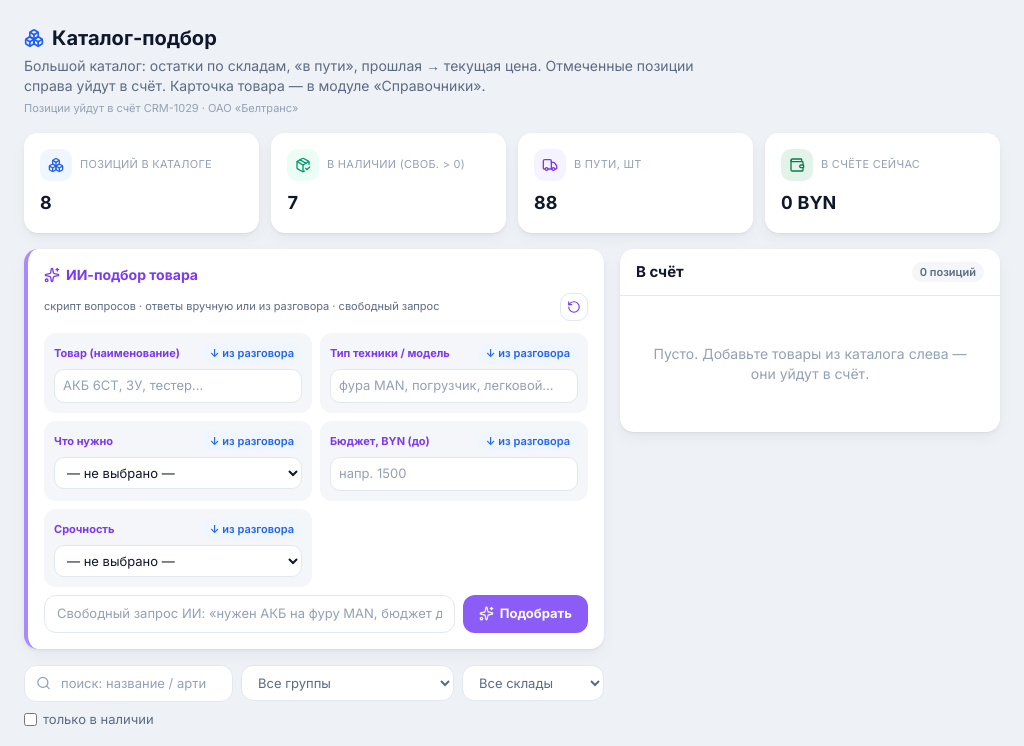
Scenario: CatalogPicker › контрол количества (+ / убрать) меняет сумму и очищает корзину
Type "6СТ-77" into the search field with placeholder "поиск: название / артикул / штрихкод". click: (128, 683)
box: [24,664,233,702]
(page scrolled)
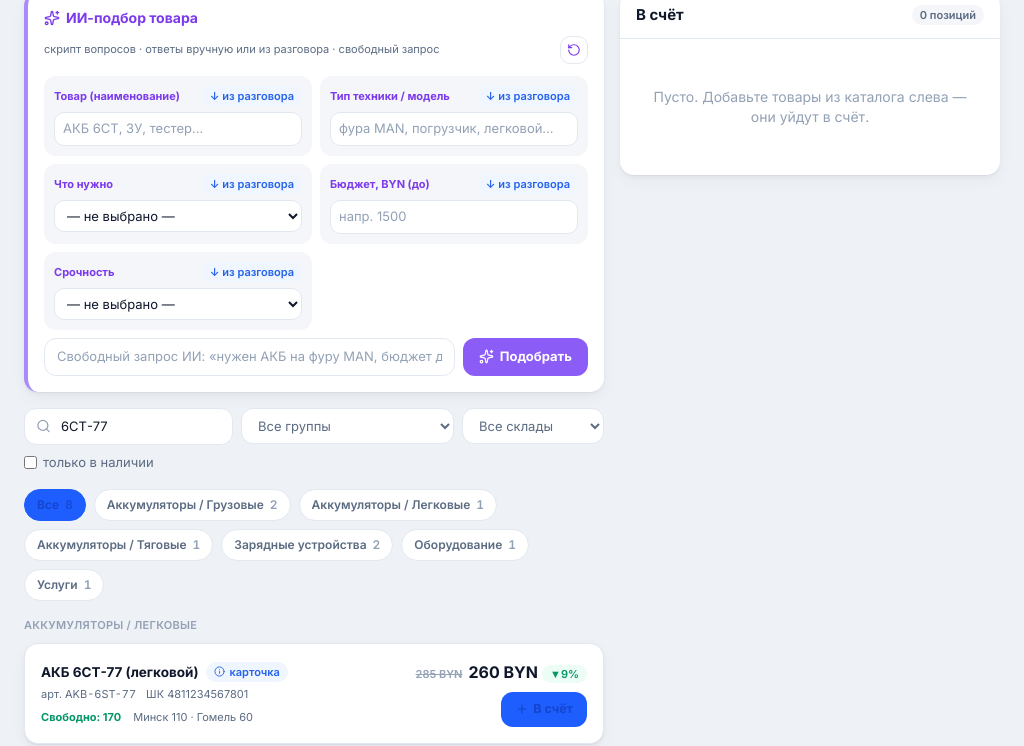
Click the button "В счёт". click: (544, 709)
box: [501,692,587,727]
(page scrolled)
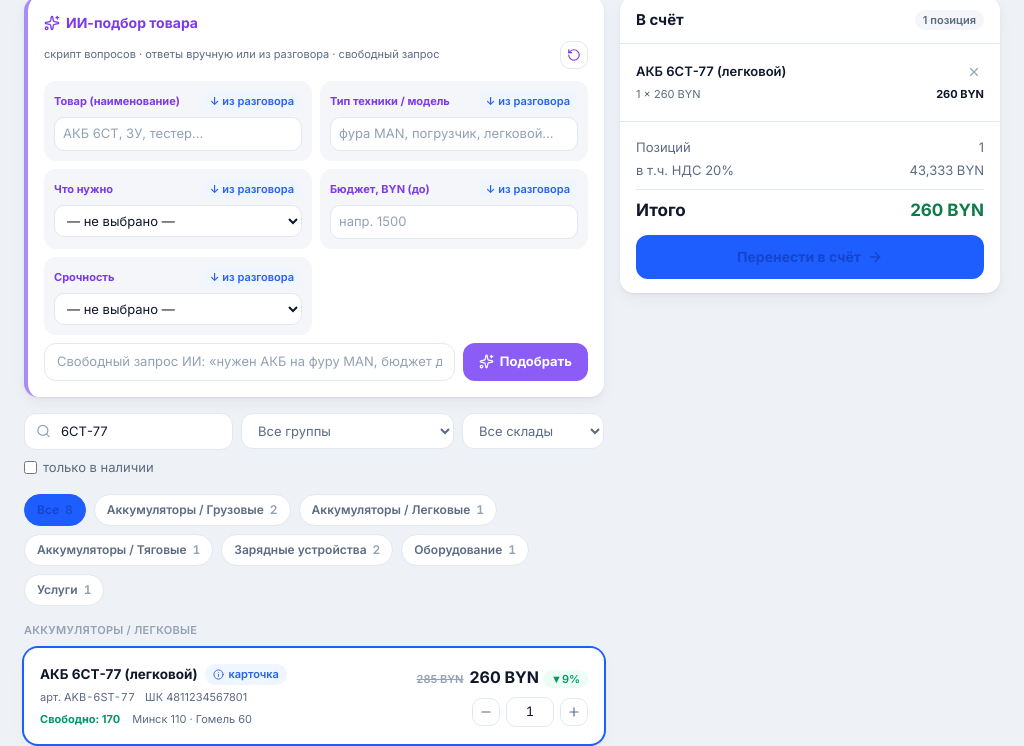
Replace the text in the field showing "1" with "3". click: (530, 712)
box: [506,697,554,726]
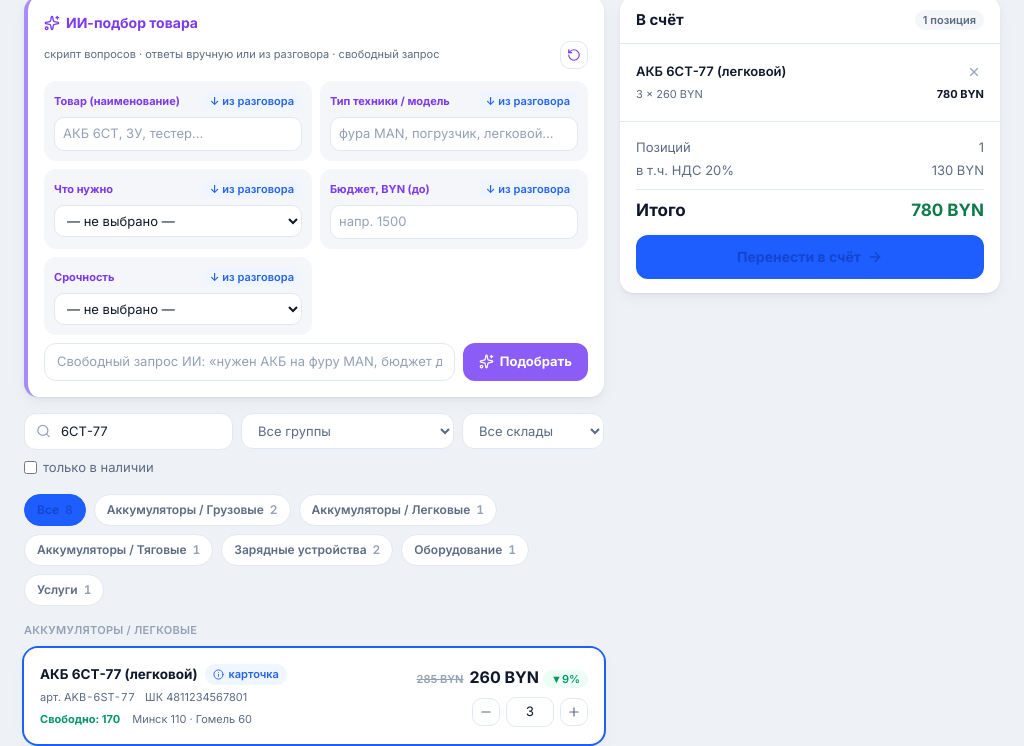
// крестик «Убрать» в корзине очищает позицию
Click the button named "Убрать". click: (974, 72)
box: [964,62,984,82]
(page scrolled)
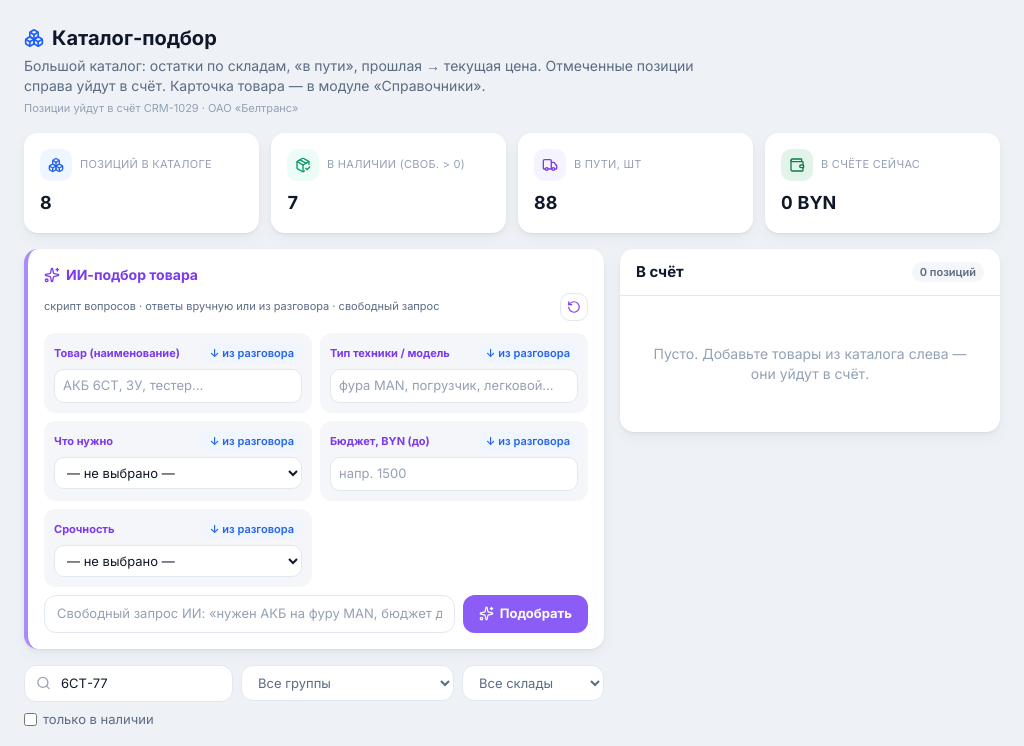
Expected: the text "0 BYN" is shown, [781,192,836,212]
Expected: the text "Пусто. Добавьте товары из каталога слева — они уйдут в счёт." is shown, [653,345,966,382]
